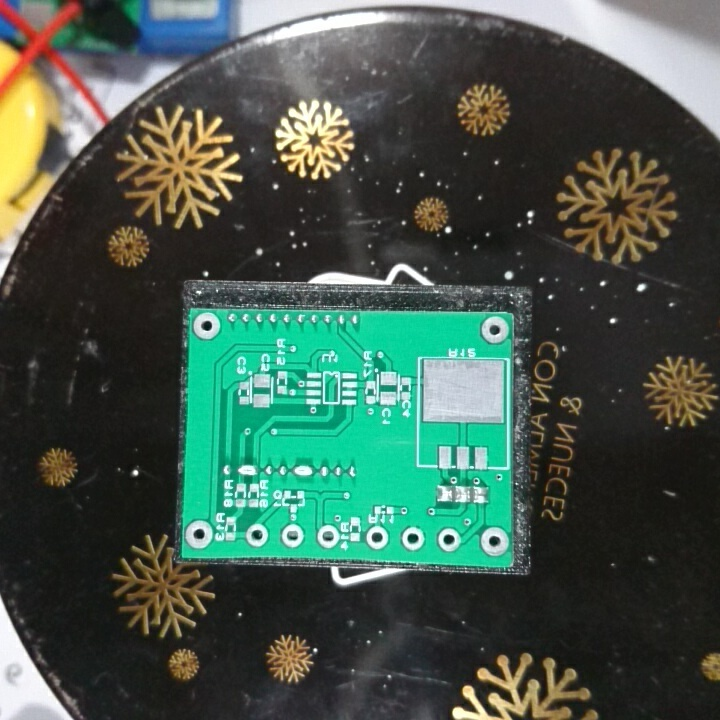F: (479, 527, 511, 562), (190, 309, 224, 341), (184, 518, 214, 552), (398, 523, 427, 554), (478, 317, 510, 345), (366, 522, 394, 553), (279, 519, 306, 550), (244, 519, 271, 549), (315, 521, 340, 553), (436, 526, 461, 558)
P: (235, 462, 260, 480), (292, 463, 316, 481)
